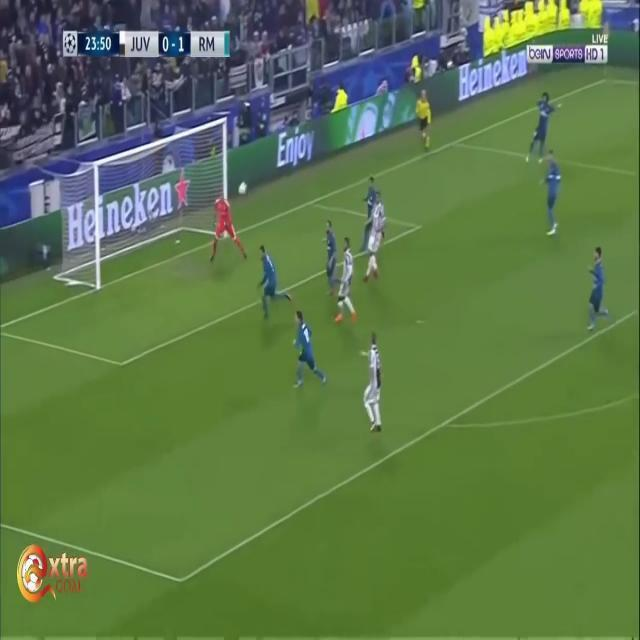ball: (236, 178, 250, 199)
goalkeeper: (206, 187, 245, 268)
player: (359, 332, 388, 445), (291, 306, 325, 392), (585, 240, 613, 335), (256, 240, 287, 323), (540, 147, 566, 243), (530, 87, 560, 170), (335, 239, 362, 322), (363, 199, 386, 286), (323, 225, 340, 294)
referee: (414, 88, 437, 159)
